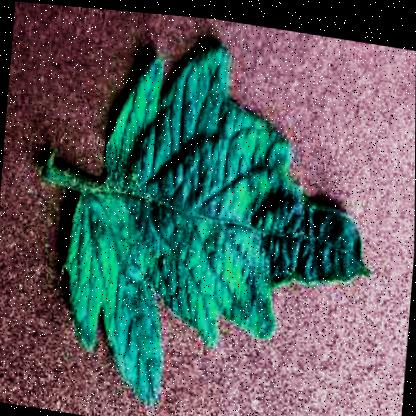Virus: (22, 15, 388, 415)
